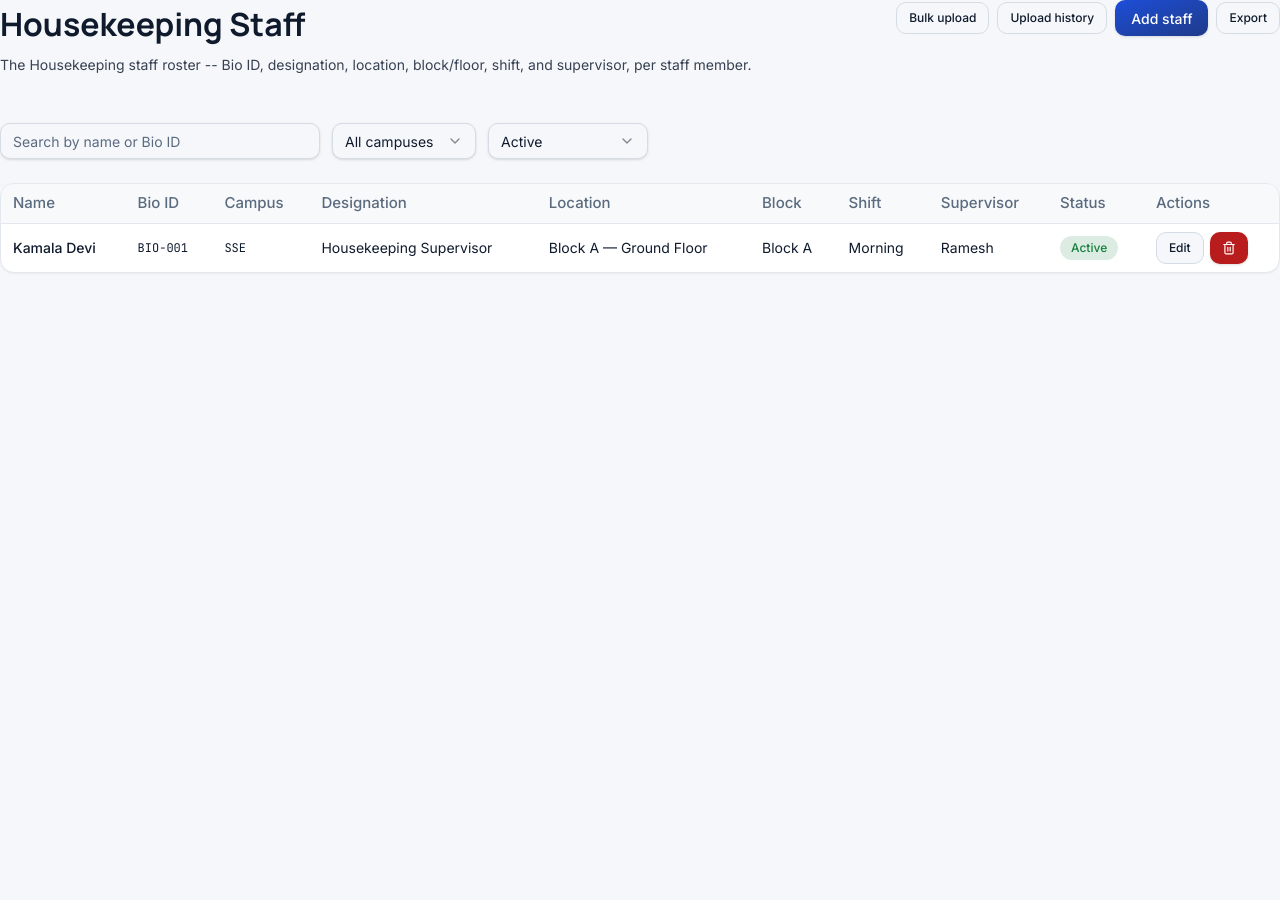
Test case: HousekeepingStaffListPage › opens the Upload history dialog scoped to HousekeepingStaff's own bulk-upload batches
Click the button "Upload history". click: (1052, 18)
box: [998,2,1107,34]
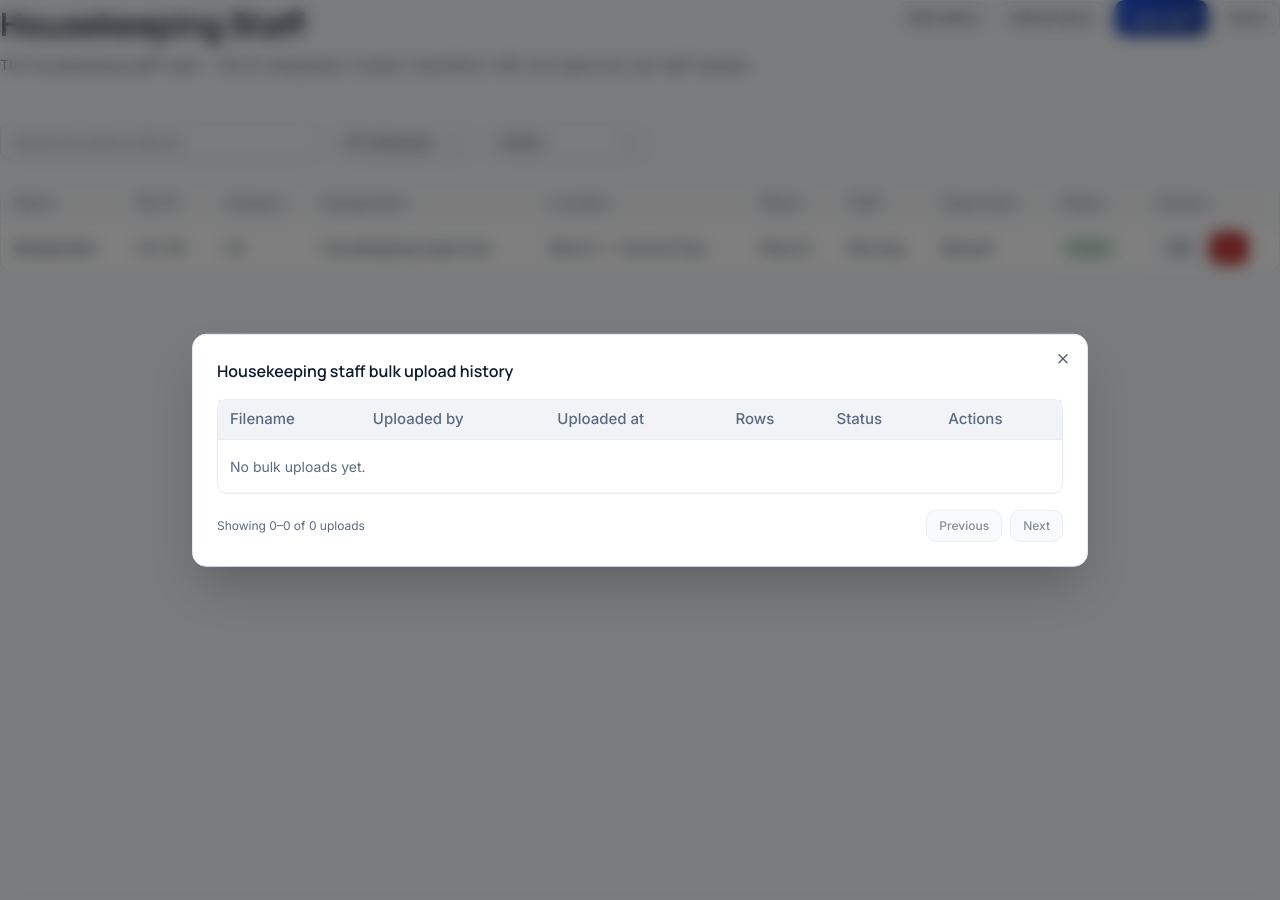
Check: the heading "Housekeeping staff bulk upload history" is shown, box [217,360,513,382]
